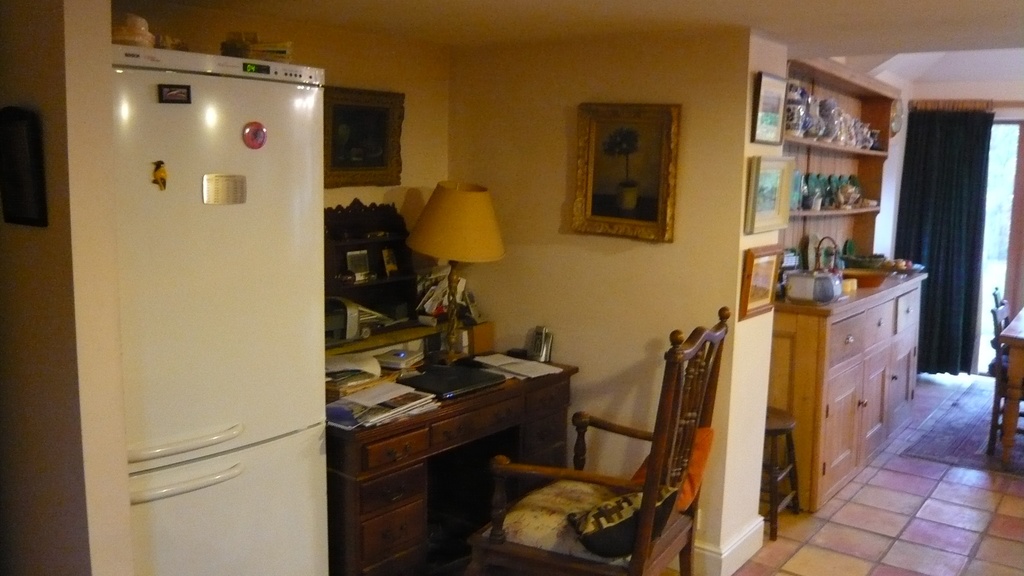cabinet door: (828, 383, 862, 474), (428, 413, 522, 438), (362, 514, 426, 547), (368, 438, 429, 466), (864, 359, 882, 450), (367, 482, 430, 508), (888, 343, 916, 401), (832, 309, 888, 337), (522, 393, 579, 413), (530, 423, 562, 456), (895, 289, 918, 327)
handle: (137, 474, 244, 504), (370, 441, 420, 465), (122, 440, 246, 449), (379, 519, 410, 541), (382, 481, 406, 502)
refrigerator door: (120, 75, 320, 425), (143, 464, 323, 576)
